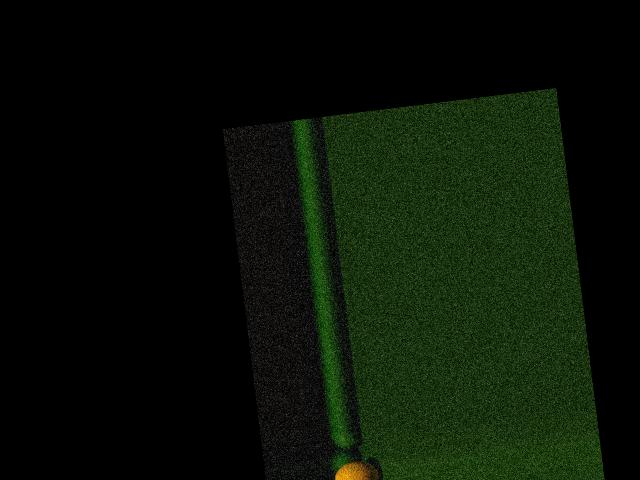egg: (333, 458, 381, 480)
